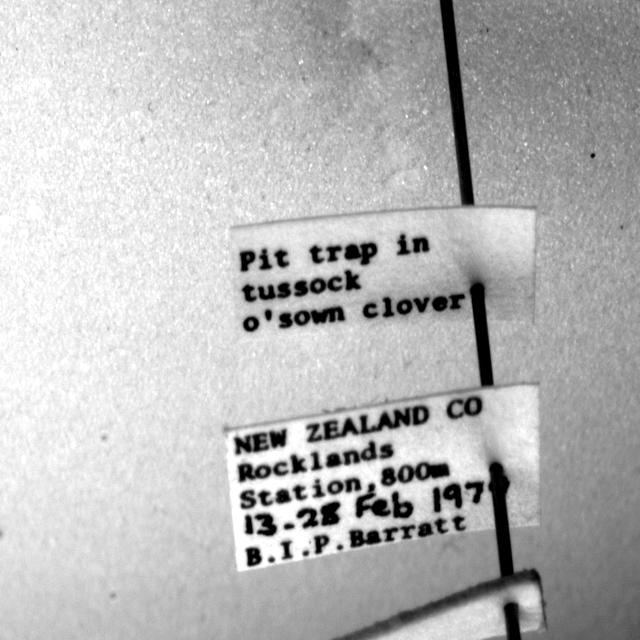mixed_label: (226, 384, 540, 570)
typed_label: (231, 206, 536, 336)
